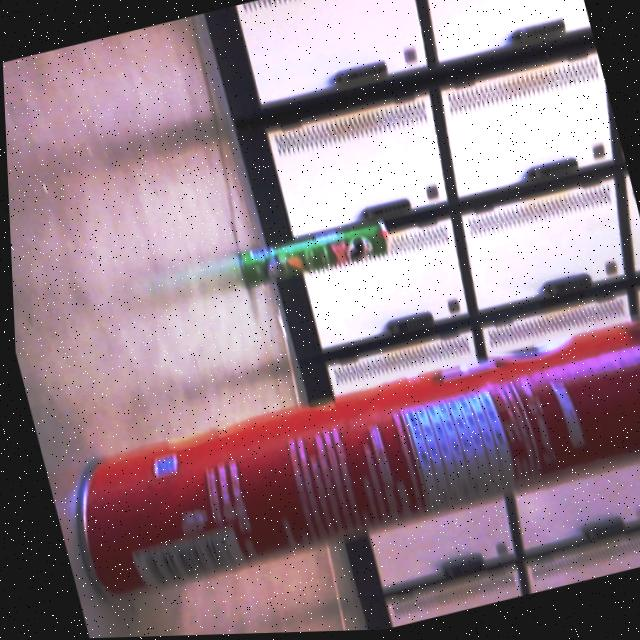greenpringles: (231, 203, 407, 296)
redpringles: (30, 294, 640, 608)
